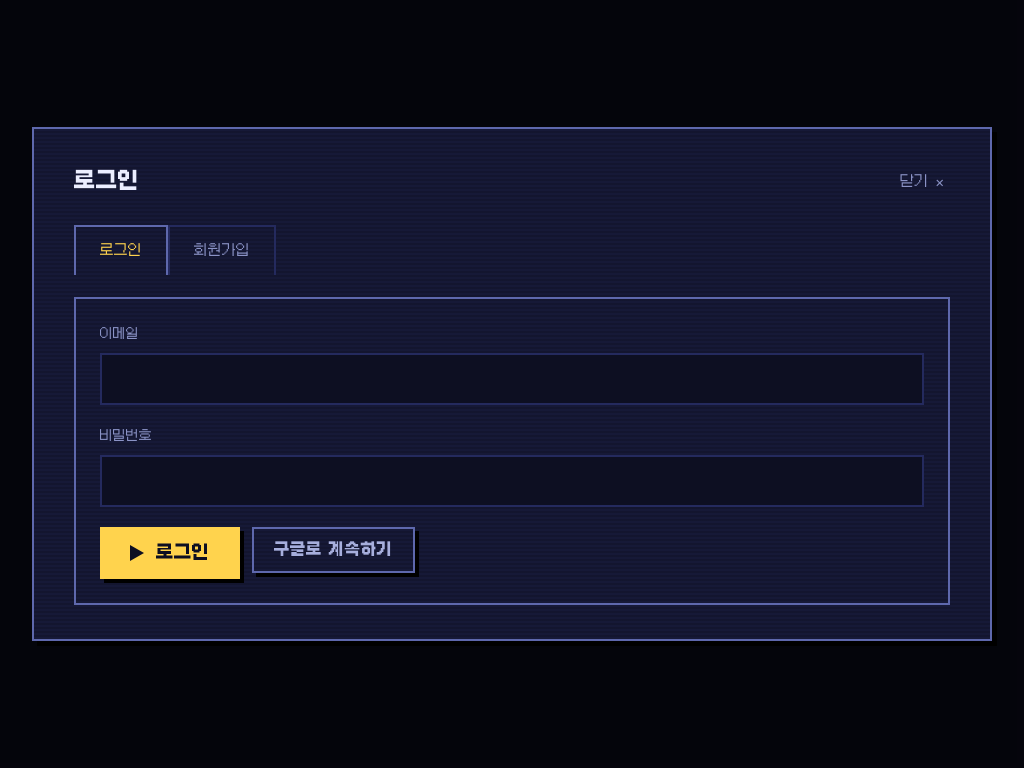
Test: AuthModal — 탭 › 회원가입 탭에는 비밀번호 확인과 저장 동의가 있다
Click the button "회원가입".
click(222, 250)  # box [168,225,276,274]
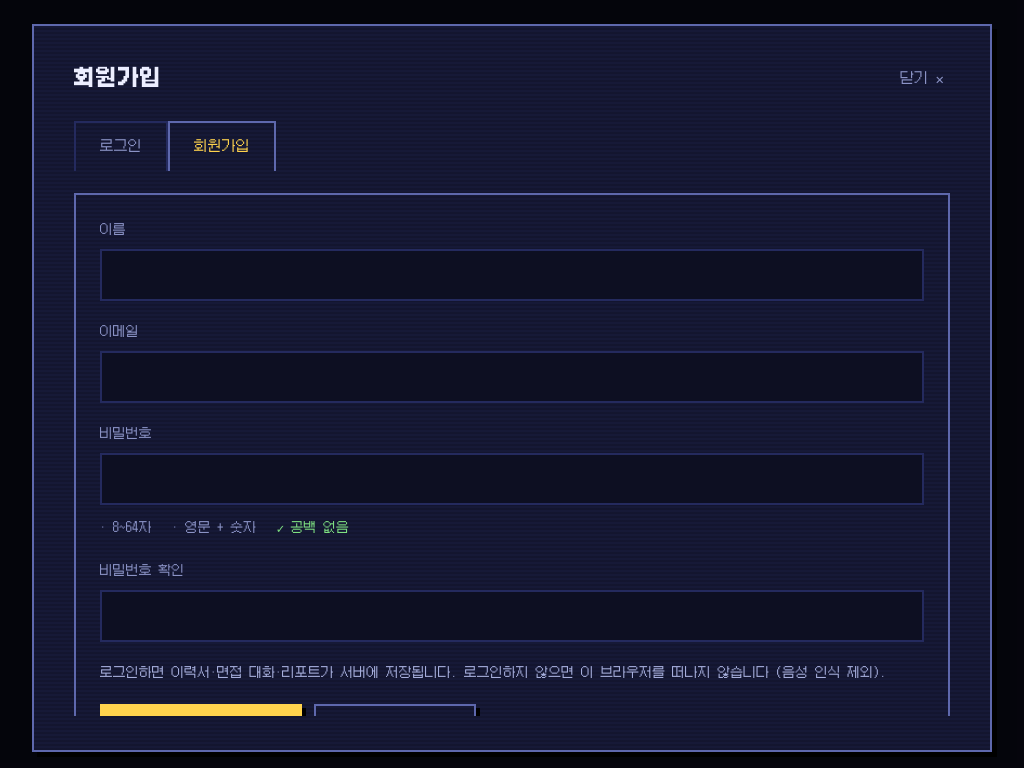
Check: the password field with test id "auth-password2" is shown, box [100,590,924,642]
